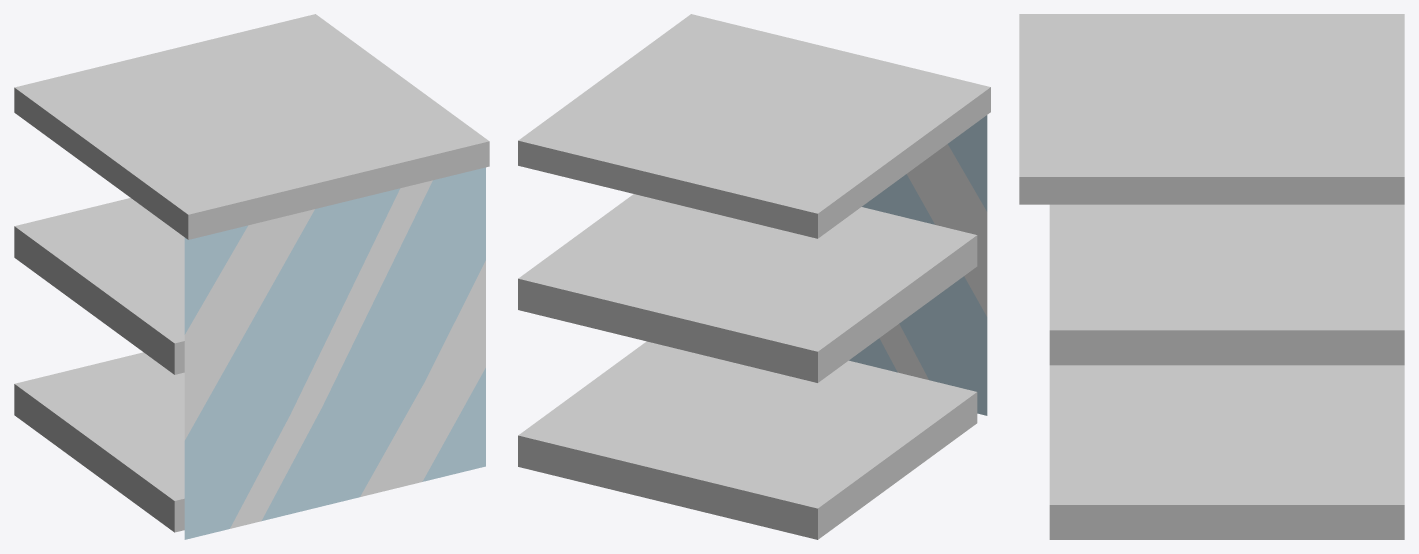
File: FoodCourt_Counter_Display.fbx
3 views of the same model, side by side, from view 1: azimuth 30°, elevation 25°; view 2: azimuth 150°, elevation 25°; view 3: azimuth 270°, elevation 25° (orthographic). The views are drawn at different scales.
Parts seen in each view (by area): view 1: Cube.166, Cube.171; view 2: Cube.166, Cube.171; view 3: Cube.166.
Boxes of the visible parts, x1,y1,x2,y2 form: Cube.166: (14, 14, 489, 532); Cube.171: (184, 167, 485, 539); Cube.166: (518, 14, 990, 539); Cube.171: (849, 115, 987, 415); Cube.166: (1019, 14, 1404, 539).
Bounding box in the file's own units: 100 × 104 × 100.
